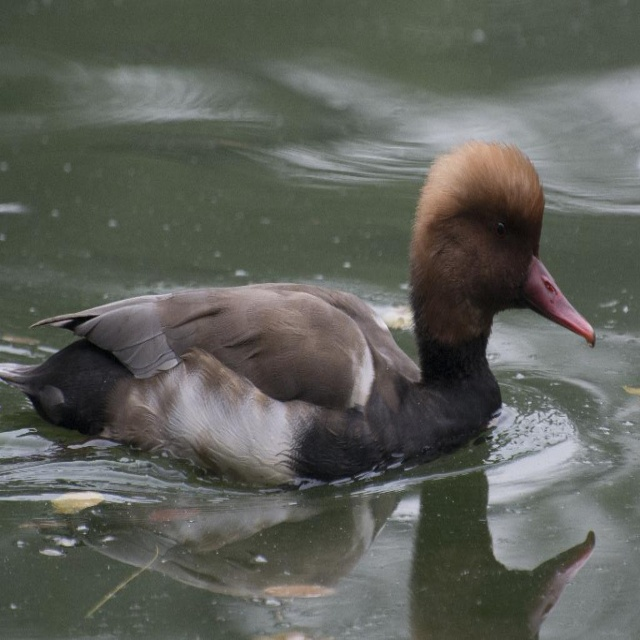Duck: (0, 135, 596, 487)
